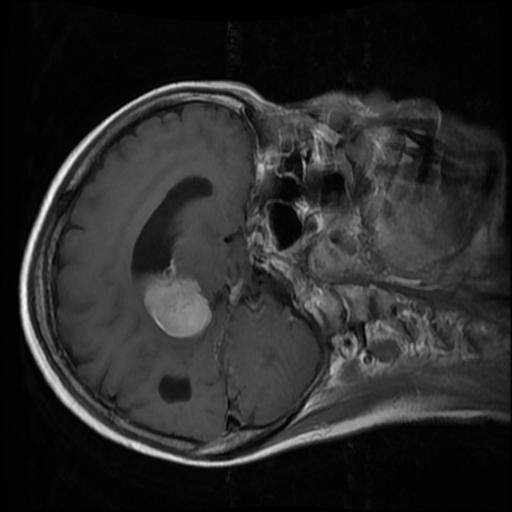meningioma: (142, 273, 211, 338)
